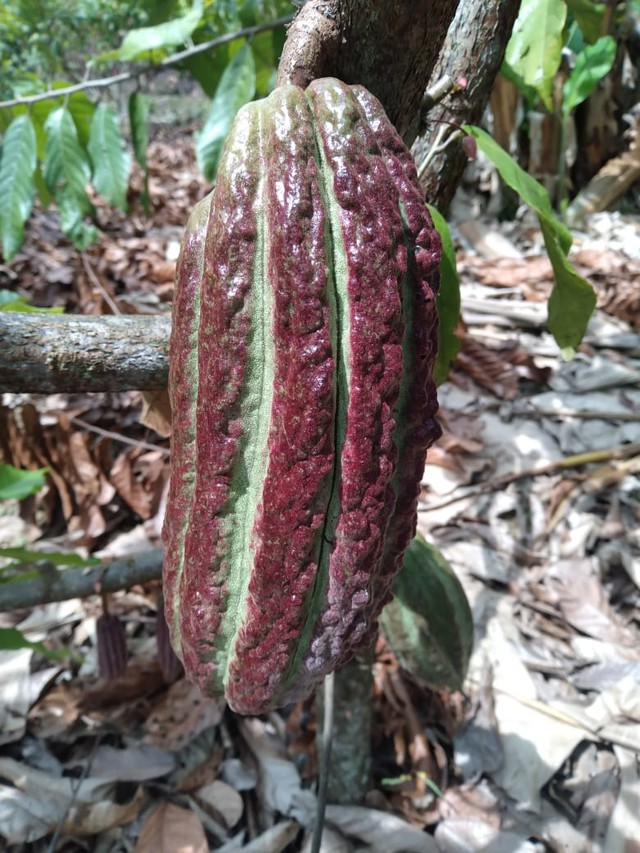Health: (116, 60, 472, 724)
